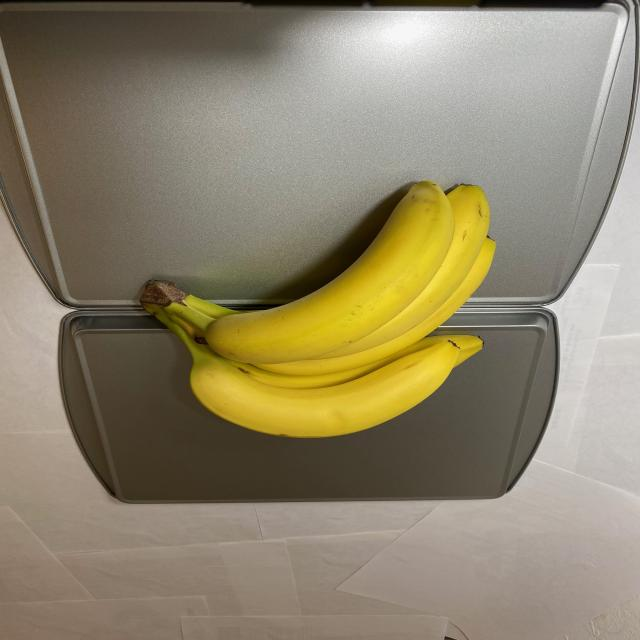banana: (134, 178, 495, 438)
